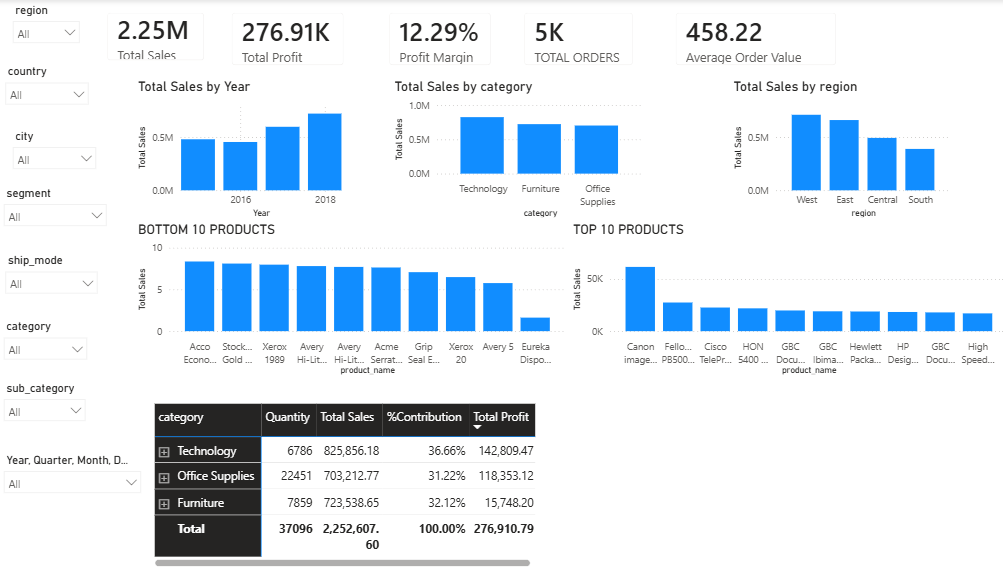

Layout of this report page (visuals, bound fields, positions):
{"tool":"powerbi","page":{"name":"Page 1","canvas":[1280,720],"ordinal":0},"visuals":[{"type":"cardVisual","fields":{"Data":["public retail_sales.Profit Margin"]},"box":[510.2,77.5,224.9,100.2],"z":0},{"type":"cardVisual","fields":{"Data":["public retail_sales.Total Sales"]},"box":[0,94.5,230.6,100.2],"z":1000},{"type":"cardVisual","fields":{"Data":["public retail_sales.Total Profit"]},"box":[245.7,83.2,238.1,100.2],"z":2000},{"type":"pivotTable","fields":{"Rows":["public retail_sales.category","public retail_sales.sub_category","public retail_sales.product_name"],"Values":["Sum(public retail_sales.quantity)","public retail_sales.Total Sales","public retail_sales.Sales % Contribution","public retail_sales.Total Profit"]},"box":[9.4,275.9,489.5,215.4],"z":3000},{"type":"cardVisual","fields":{"Data":["public retail_sales.TOTAL ORDERS"]},"box":[755.9,75.6,202.2,117.2],"z":4000},{"type":"columnChart","fields":{"Category":["public retail_sales.category"],"Y":["public retail_sales.Total Sales"]},"box":[918.4,251.3,360.9,215.4],"z":5000},{"type":"slicer","fields":{"Values":["public retail_sales.region"]},"box":[11.3,0,103.9,83.2],"z":5001},{"type":"slicer","fields":{"Values":["public retail_sales.city"]},"box":[245.7,5.7,124.7,71.8],"z":5002},{"type":"slicer","fields":{"Values":["public retail_sales.segment"]},"box":[385.5,5.7,149.3,71.8],"z":5003},{"type":"slicer","fields":{"Values":["public retail_sales.country"]},"box":[115.3,5.7,124.7,71.8],"z":5004},{"type":"slicer","fields":{"Values":["public retail_sales.ship_mode"]},"box":[544.3,11.3,136.1,58.6],"z":5005},{"type":"slicer","fields":{"Values":["public retail_sales.category"]},"box":[712.4,11.3,124.7,58.6],"z":5006},{"type":"slicer","fields":{"Values":["public retail_sales.sub_category"]},"box":[858,18.9,122.8,58.6],"z":5007},{"type":"slicer","fields":{"Values":["public retail_sales.order_date.Variation.Date Hierarchy.Year","public retail_sales.order_date.Variation.Date Hierarchy.Quarter","public retail_sales.order_date.Variation.Date Hierarchy.Month","public retail_sales.order_date.Variation.Date Hierarchy.Day"]},"box":[1009.1,18.9,192.8,58.6],"z":5008},{"type":"columnChart","fields":{"Category":["public retail_sales.order_date.Variation.Date Hierarchy.Year","public retail_sales.order_date.Variation.Date Hierarchy.Quarter","public retail_sales.order_date.Variation.Date Hierarchy.Month","public retail_sales.order_date.Variation.Date Hierarchy.Day"],"Y":["public retail_sales.Total Sales"]},"box":[534.8,257,342,215.4],"z":5009},{"type":"columnChart","fields":{"Category":["public retail_sales.region"],"Y":["public retail_sales.Total Sales"]},"box":[977,504.6,245.7,215.4],"z":5010},{"type":"cardVisual","fields":{"Data":["public retail_sales.Average Order Value"]},"box":[960,94.5,279.7,94.5],"z":5011},{"type":"clusteredBarChart","fields":{"Category":["public retail_sales.product_name"],"Y":["public retail_sales.Total Sales"]},"box":[0,472.4,364.7,247.6],"z":5012},{"type":"clusteredBarChart","fields":{"Category":["public retail_sales.product_name"],"Y":["public retail_sales.Total Sales"]},"box":[385.5,472.4,451.7,247.6],"z":5013}]}

Visuals, with their boxes in screenshot pixels (x1, y1, x2, y2), scaled from the page's 1280x720 canvas onto the 1003x568 screenshot:
cardVisual - public retail_sales.Profit Margin: <box>400,61,576,140</box>
cardVisual - public retail_sales.Total Sales: <box>0,75,181,154</box>
cardVisual - public retail_sales.Total Profit: <box>193,66,379,145</box>
pivotTable - public retail_sales.category x public retail_sales.sub_category: <box>7,218,391,388</box>
cardVisual - public retail_sales.TOTAL ORDERS: <box>592,60,751,152</box>
columnChart - public retail_sales.category x public retail_sales.Total Sales: <box>720,198,1002,368</box>
slicer - public retail_sales.region: <box>9,0,90,66</box>
slicer - public retail_sales.city: <box>193,4,290,61</box>
slicer - public retail_sales.segment: <box>302,4,419,61</box>
slicer - public retail_sales.country: <box>90,4,188,61</box>
slicer - public retail_sales.ship_mode: <box>427,9,533,55</box>
slicer - public retail_sales.category: <box>558,9,656,55</box>
slicer - public retail_sales.sub_category: <box>672,15,769,61</box>
slicer - public retail_sales.order_date.Variation.Date Hierarchy.Year x public retail_sales.order_date.Variation.Date Hierarchy.Quarter: <box>791,15,942,61</box>
columnChart - public retail_sales.order_date.Variation.Date Hierarchy.Year x public retail_sales.order_date.Variation.Date Hierarchy.Quarter: <box>419,203,687,373</box>
columnChart - public retail_sales.region x public retail_sales.Total Sales: <box>766,398,958,567</box>
cardVisual - public retail_sales.Average Order Value: <box>752,75,971,149</box>
clusteredBarChart - public retail_sales.product_name x public retail_sales.Total Sales: <box>0,373,286,567</box>
clusteredBarChart - public retail_sales.product_name x public retail_sales.Total Sales: <box>302,373,656,567</box>
